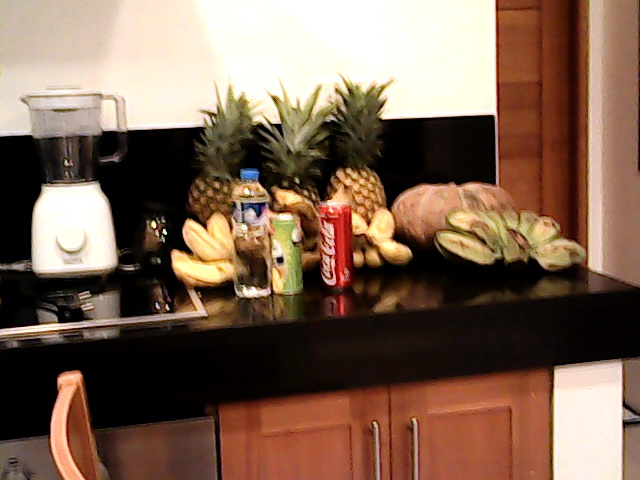Cola: (310, 196, 363, 295)
Pine Juice: (266, 207, 305, 299)
Summit Water: (223, 162, 272, 310)
